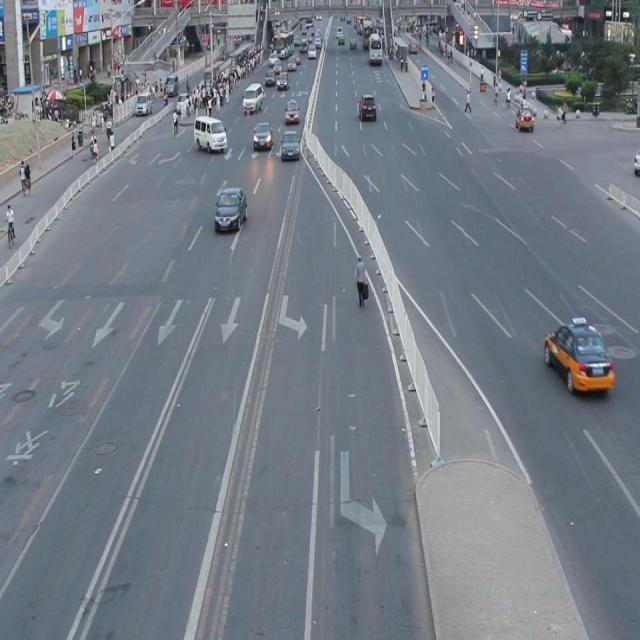car: (543, 319, 612, 393), (213, 185, 246, 236)
